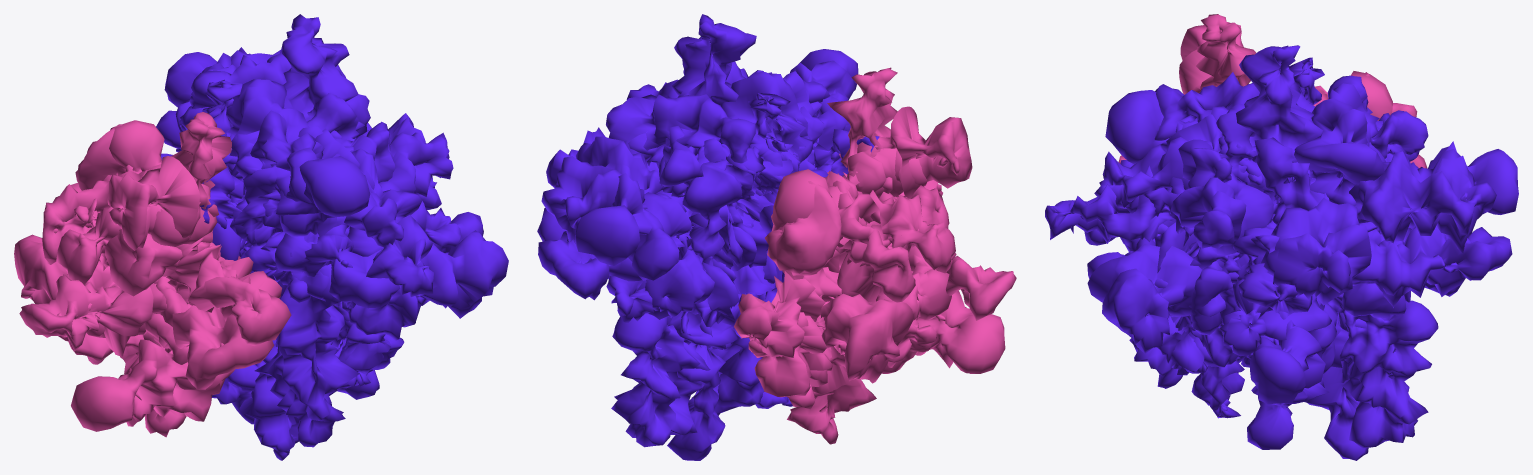
Rendered from ribosome.glb.
The picture shows the model from 3 angles, left to right: view 1: azimuth 30°, elevation 25°; view 2: azimuth 150°, elevation 25°; view 3: azimuth 270°, elevation 25°; orthographic projection. The views are drawn at different scales.
Visible parts, largest first — view 1: ribosome_1-material, ribosome_2-material; view 2: ribosome_1-material, ribosome_2-material; view 3: ribosome_1-material, ribosome_2-material.
Boxes of the visible parts, left/top/right/bottom form: ribosome_1-material: left=156, top=14, right=508, bottom=460; ribosome_2-material: left=14, top=112, right=291, bottom=437; ribosome_1-material: left=537, top=14, right=879, bottom=460; ribosome_2-material: left=734, top=67, right=1016, bottom=444; ribosome_1-material: left=1045, top=45, right=1518, bottom=460; ribosome_2-material: left=1118, top=14, right=1427, bottom=168.
Size of the model in its own units: 6.88 by 5.97 by 6.07.
